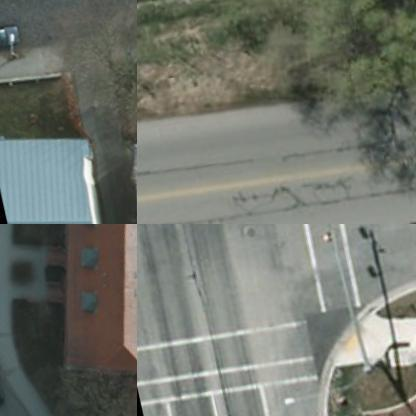car: (0, 21, 29, 65), (0, 341, 11, 413)
